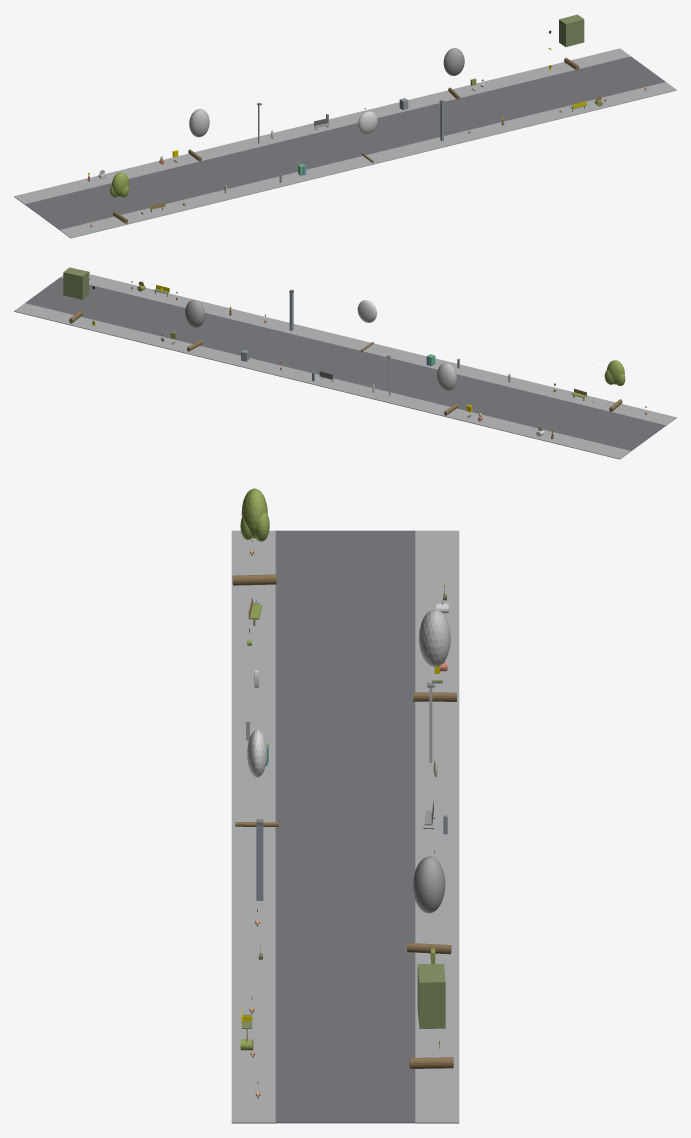
3 views of the same model, one above another, from view 1: azimuth 30°, elevation 25°; view 2: azimuth 150°, elevation 25°; view 3: azimuth 270°, elevation 25° (orthographic). The views are drawn at different scales.
Visible parts, largest first — view 1: road_slab, sidewalk_left, sidewalk_right, inst_0016, inst_0015, inst_0013, inst_0012, inst_0014; view 2: road_slab, sidewalk_right, sidewalk_left, inst_0016, inst_0013, inst_0015, inst_0012, inst_0014; view 3: road_slab, sidewalk_left, sidewalk_right, inst_0016, inst_0015, inst_0013, inst_0012, inst_0014.
Boxes of the visible parts, x1,y1,x2,y2 form: road_slab: (25,56,665,229); sidewalk_left: (60,82,676,238); sidewalk_right: (14,48,630,204); inst_0016: (559,14,584,70); inst_0015: (443,48,464,100); inst_0013: (188,109,209,161); inst_0012: (110,172,129,223); inst_0014: (358,111,377,162); road_slab: (25,277,665,450); sidewalk_right: (14,303,630,459); sidewalk_left: (60,274,676,425); inst_0016: (63,267,88,323); inst_0013: (436,362,458,415); inst_0015: (185,300,204,351); inst_0012: (604,360,625,411); inst_0014: (357,300,376,351); road_slab: (275,530,415,1123); sidewalk_left: (231,530,275,1123); sidewalk_right: (415,530,459,1123); inst_0016: (409,963,453,1068); inst_0015: (407,856,451,954); inst_0013: (413,609,456,701); inst_0012: (232,488,276,585); inst_0014: (235,730,278,826).
Size of the model in its own units: 80 by 6.08 by 13.
